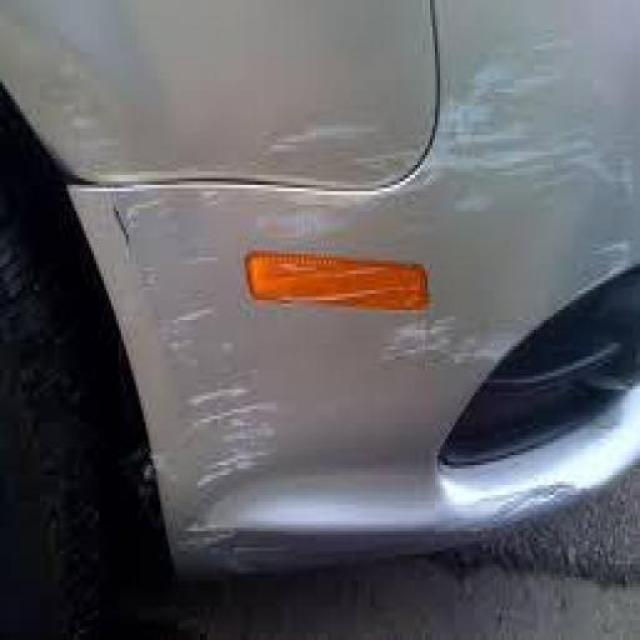scratch: (52, 35, 635, 561)
